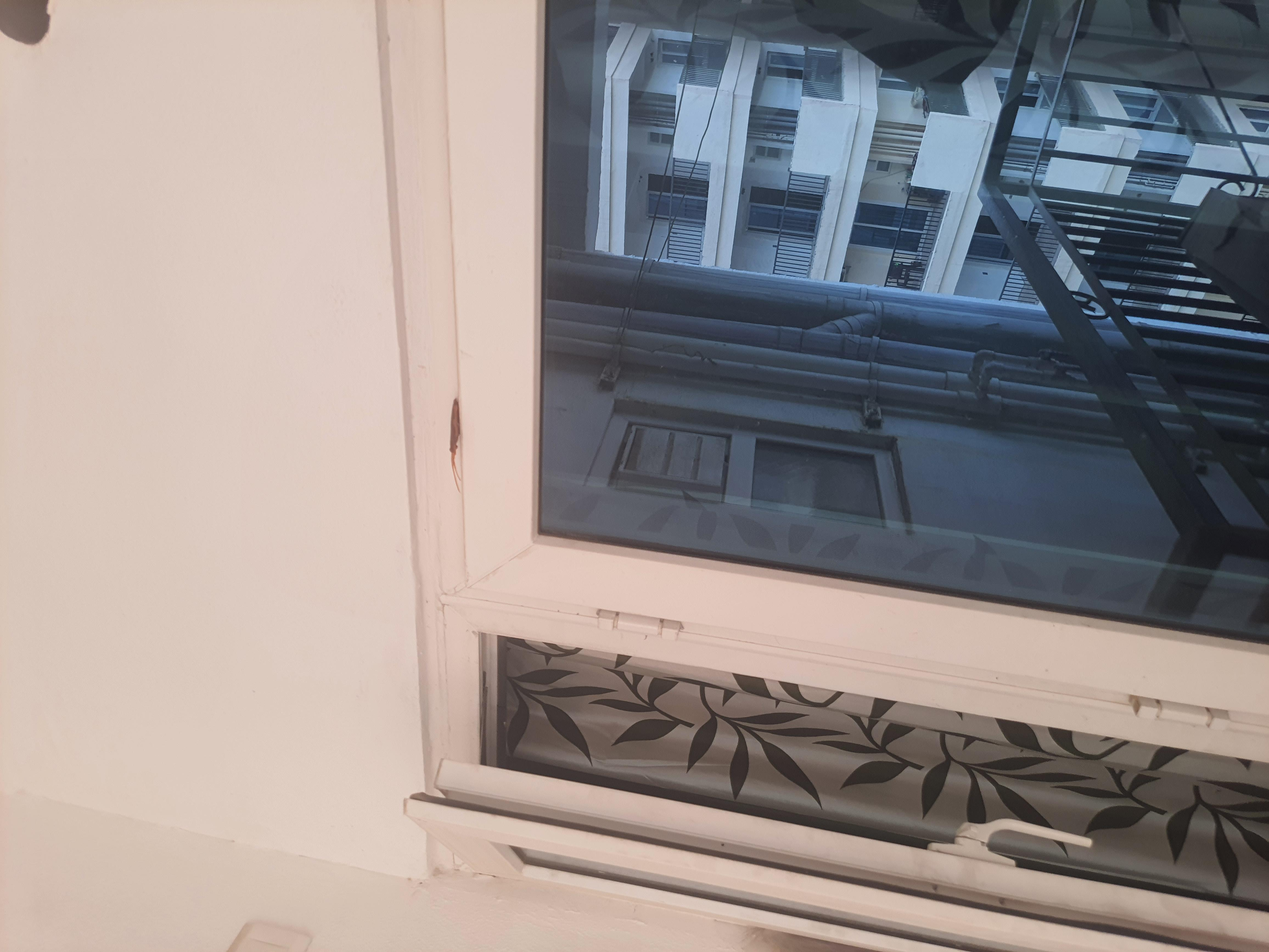cockroach: (598, 320, 759, 359)
